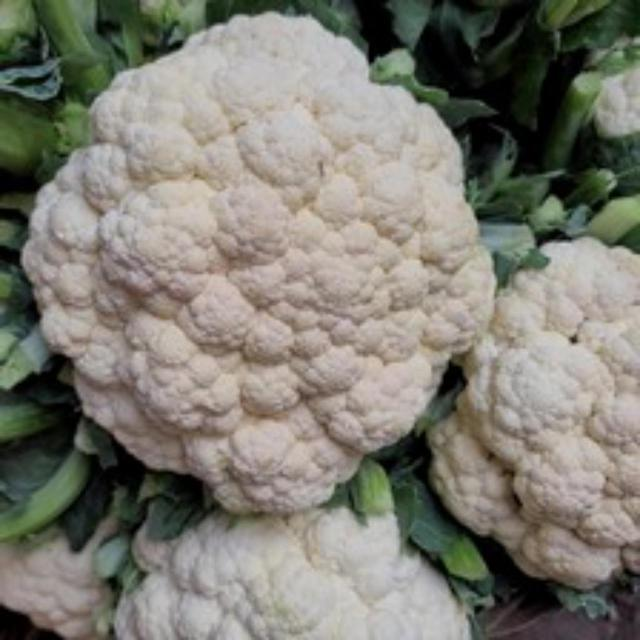cauliflower: (25, 8, 505, 522)
